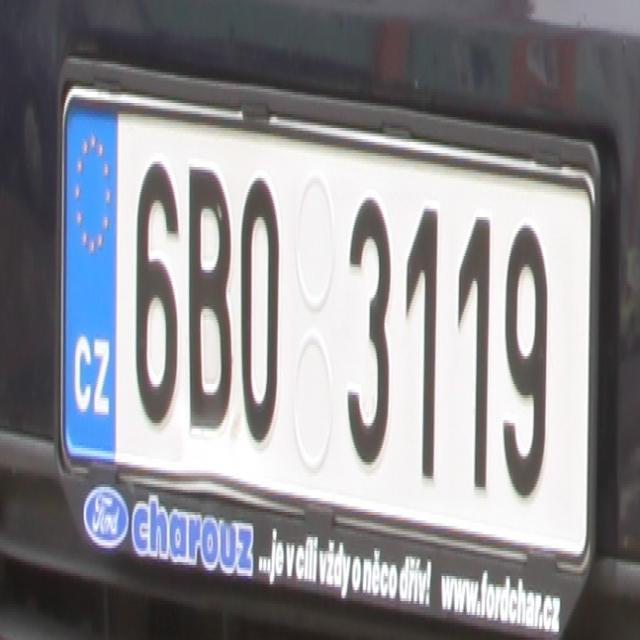0: (240, 170, 278, 448)
1: (458, 212, 491, 506), (404, 203, 438, 484)
3: (346, 195, 391, 476)
6: (130, 162, 178, 420)
9: (503, 222, 549, 496)
B: (185, 158, 232, 432)
